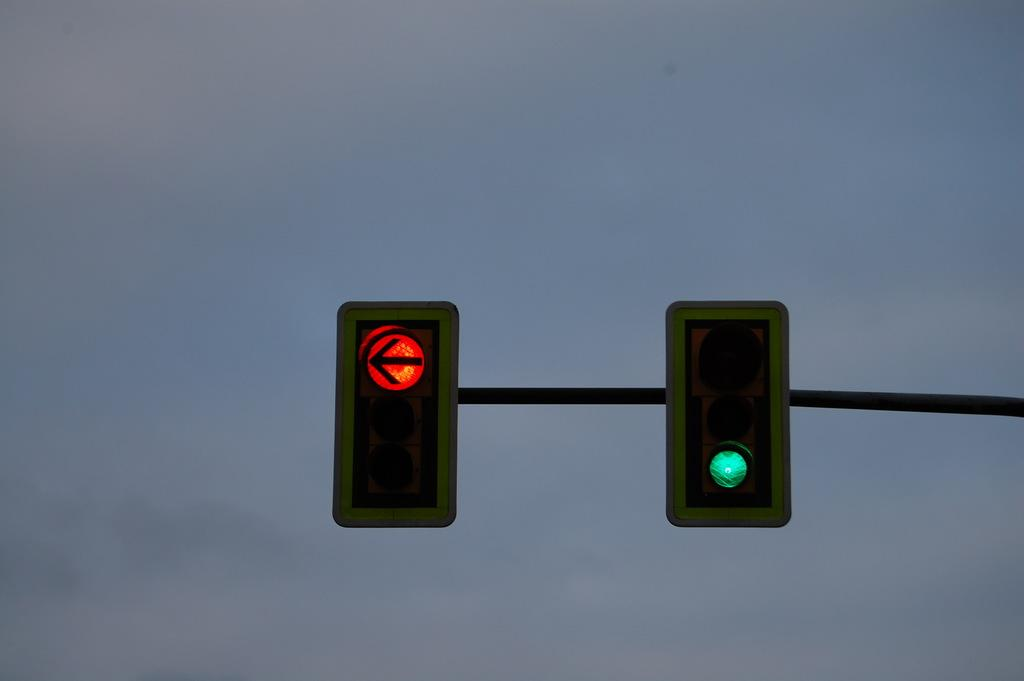green_light: (665, 302, 792, 528)
red_light: (332, 299, 459, 529)
